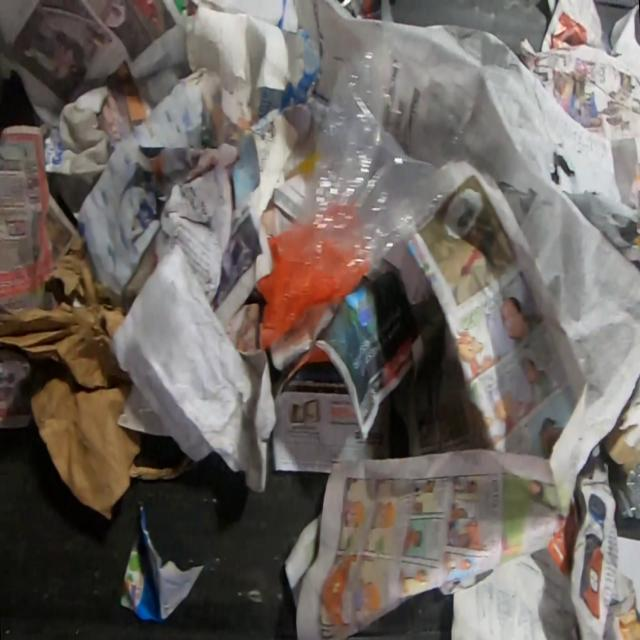cardboard: (0, 237, 196, 519), (602, 374, 640, 471)
rigid_plastic: (611, 460, 639, 520)
soft_plastic: (255, 43, 466, 351)
